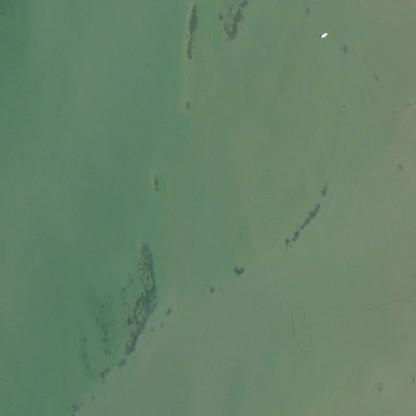ship: (319, 31, 327, 38)
